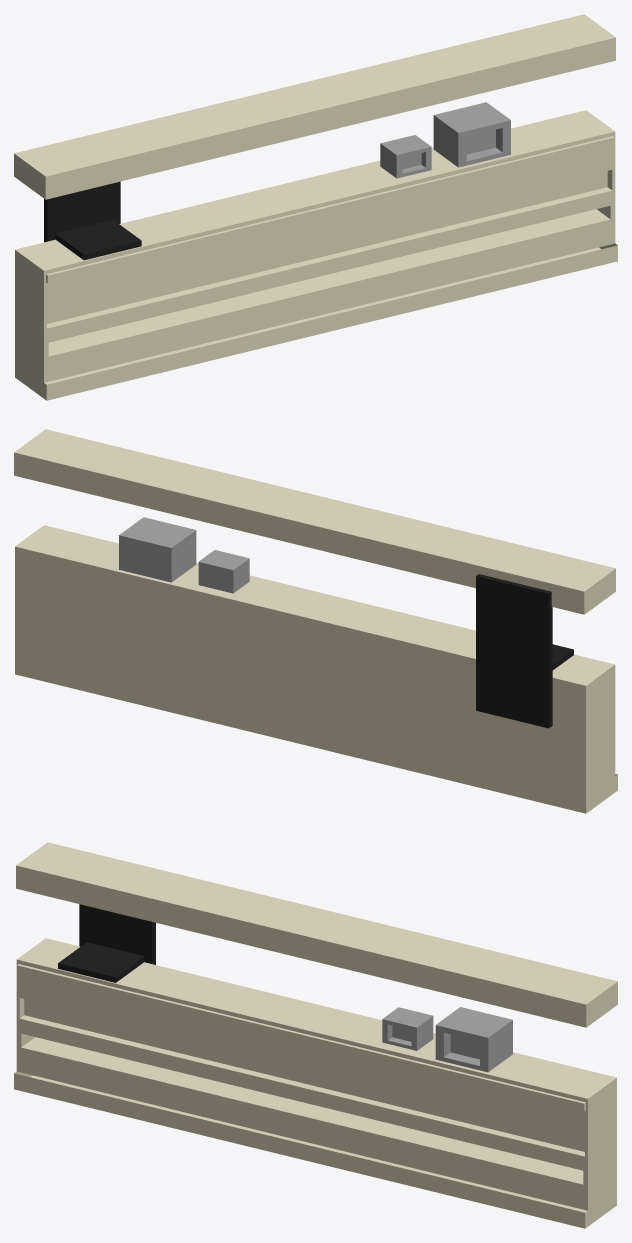
Rendered from back_structure.glb.
3 renders of one model, top to bottom at view 1: azimuth 30°, elevation 25°; view 2: azimuth 150°, elevation 25°; view 3: azimuth 330°, elevation 25°, orthographic.
Visible parts, largest first — view 1: Cube, Cube.001, Cube.003, Cube.002; view 2: Cube, Cube.001, Cube.003, Cube.002; view 3: Cube, Cube.001, Cube.003, Cube.002.
Part boxes in pixels (x1,y1,x2,y2): Cube: [14, 14, 617, 400]; Cube.001: [44, 181, 141, 260]; Cube.003: [433, 102, 510, 167]; Cube.002: [380, 135, 431, 178]; Cube: [14, 429, 617, 813]; Cube.001: [476, 574, 573, 728]; Cube.003: [119, 517, 196, 582]; Cube.002: [198, 550, 249, 593]; Cube: [14, 842, 617, 1228]; Cube.001: [58, 904, 155, 982]; Cube.003: [435, 1007, 512, 1072]; Cube.002: [382, 1007, 433, 1050].
Bounding box in the file's own units: 8.87 × 3.31 × 0.9695.
